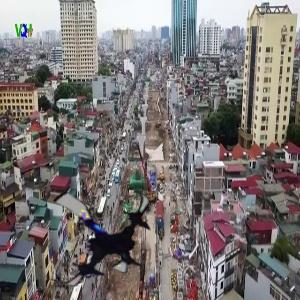drone: (32, 171, 161, 300)
